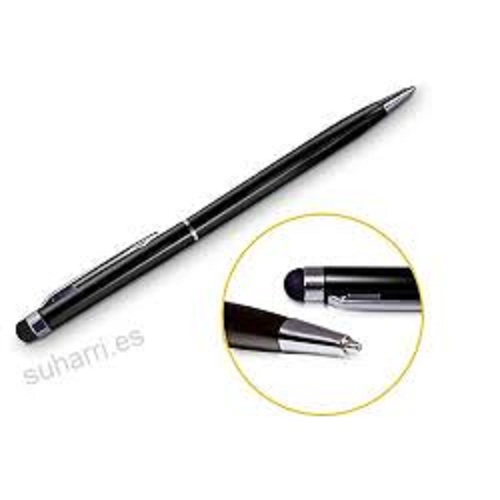Boligrafo: (10, 81, 423, 343)
